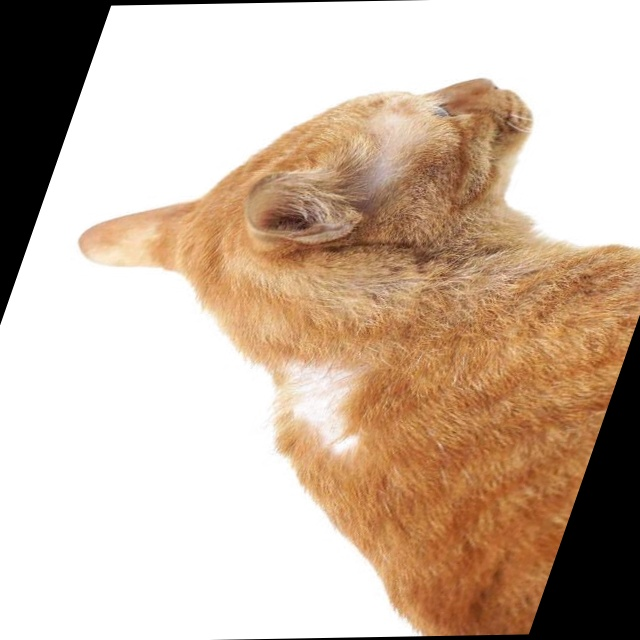hairloss: (273, 359, 367, 440)
